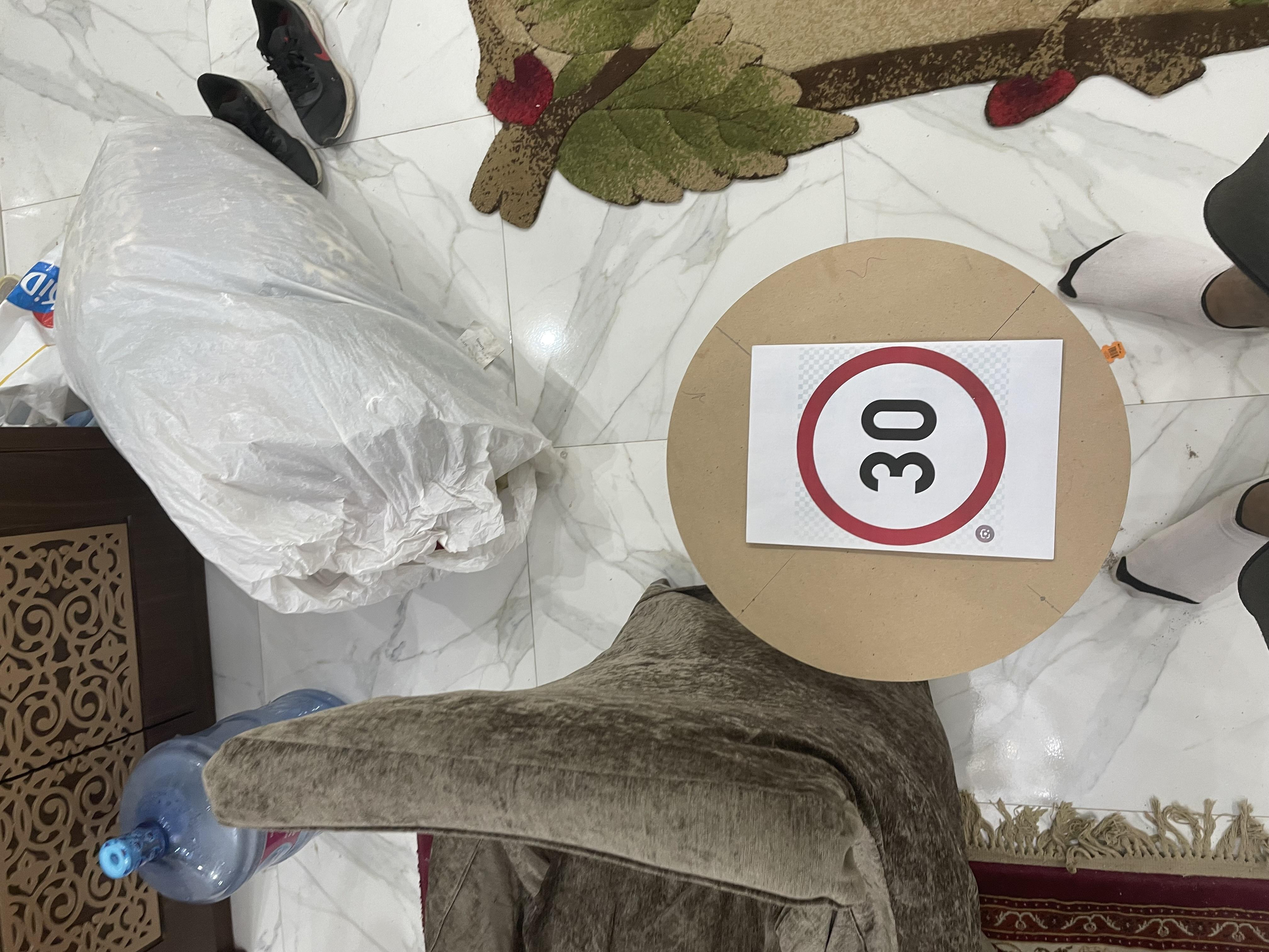30-speed: (534, 614, 801, 749)
